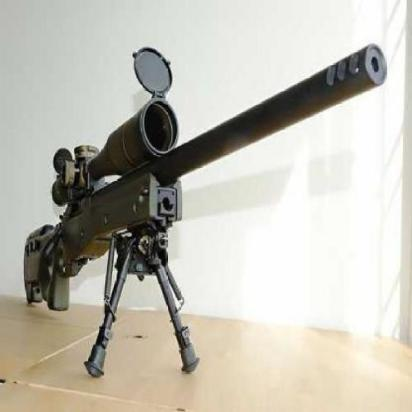Gun: (21, 45, 383, 305)
